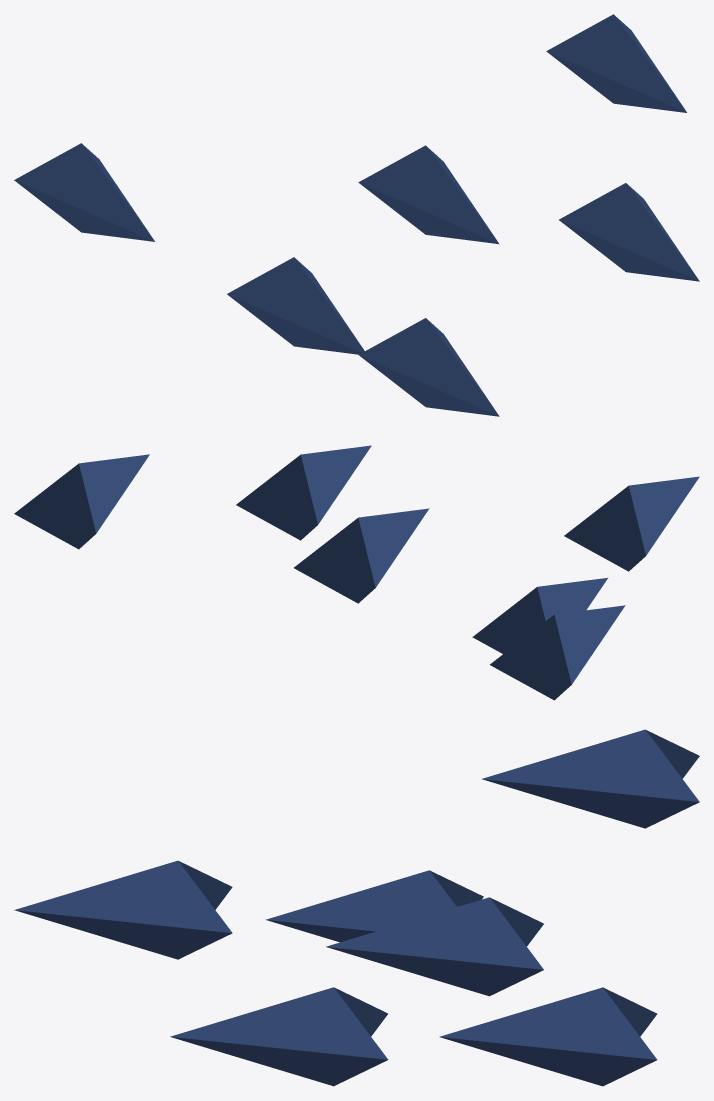
The model's file is MithrilArrowheadStack6Plus.glb.
3 views of the same model, one above another, from view 1: azimuth 30°, elevation 25°; view 2: azimuth 150°, elevation 25°; view 3: azimuth 270°, elevation 25° (orthographic). The views are drawn at different scales.
Visible parts, largest first — view 1: MithrilArrowheadStack6Plus; view 2: MithrilArrowheadStack6Plus; view 3: MithrilArrowheadStack6Plus.
Part boxes in pixels (x1=…): MithrilArrowheadStack6Plus: x1=14, y1=14, x2=699, y2=416; MithrilArrowheadStack6Plus: x1=14, y1=445, x2=699, y2=700; MithrilArrowheadStack6Plus: x1=14, y1=729, x2=699, y2=1086.
Size of the model in its own units: 0.3541 by 0.1006 by 0.3171.
